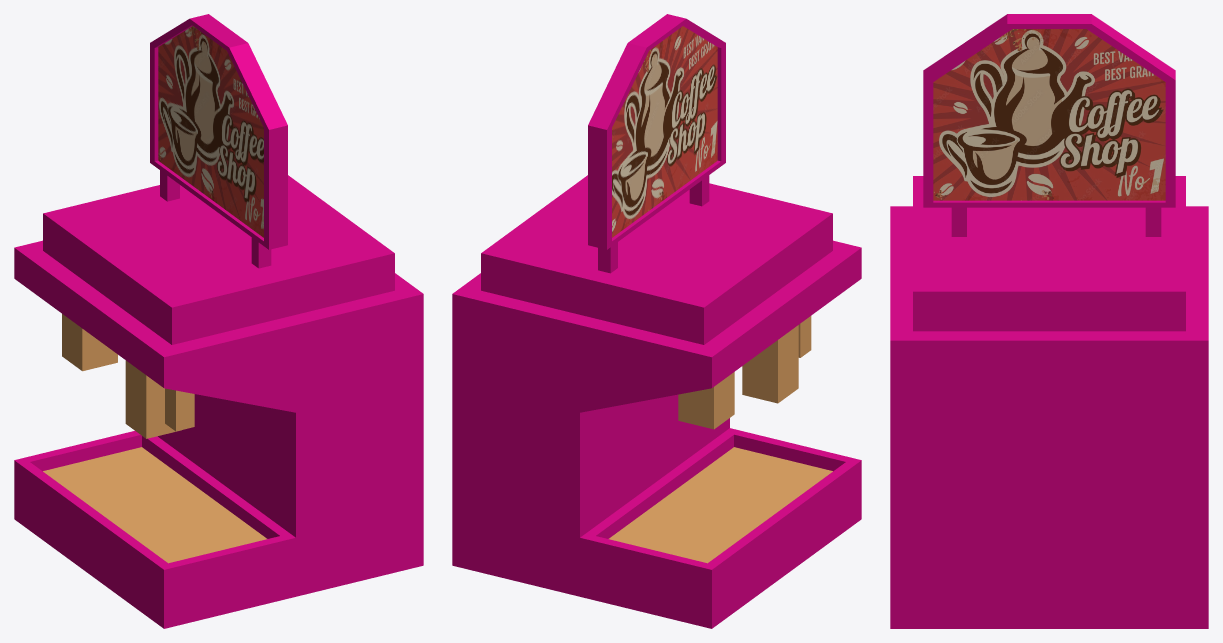
Rendered from C_Coffee001.fbx.
The picture shows the model from 3 angles, left to right: view 1: azimuth 30°, elevation 25°; view 2: azimuth 150°, elevation 25°; view 3: azimuth 270°, elevation 25°; orthographic projection. The views are drawn at different scales.
Parts seen in each view (by area): view 1: C_Coffee001; view 2: C_Coffee001; view 3: C_Coffee001.
Boxes of the visible parts, <box> form: C_Coffee001: <box>14,14,423,628</box>; C_Coffee001: <box>452,14,861,628</box>; C_Coffee001: <box>890,14,1208,628</box>.
Bounding box in the file's own units: 72.78 × 137 × 72.78.
